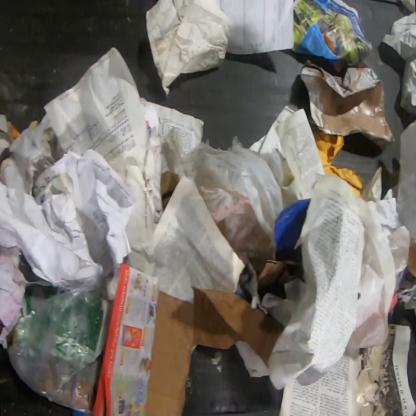cardboard: (145, 285, 286, 416), (300, 59, 396, 155)
soft_plastic: (194, 136, 284, 298), (6, 280, 112, 416), (390, 118, 416, 244)
